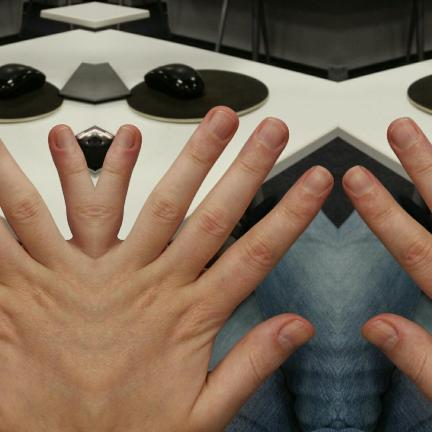Nail: (277, 319, 314, 353), (360, 319, 397, 353), (302, 166, 331, 196), (256, 119, 285, 149), (389, 119, 418, 149), (207, 111, 235, 141), (344, 166, 372, 196), (117, 127, 134, 149), (54, 127, 71, 149)
